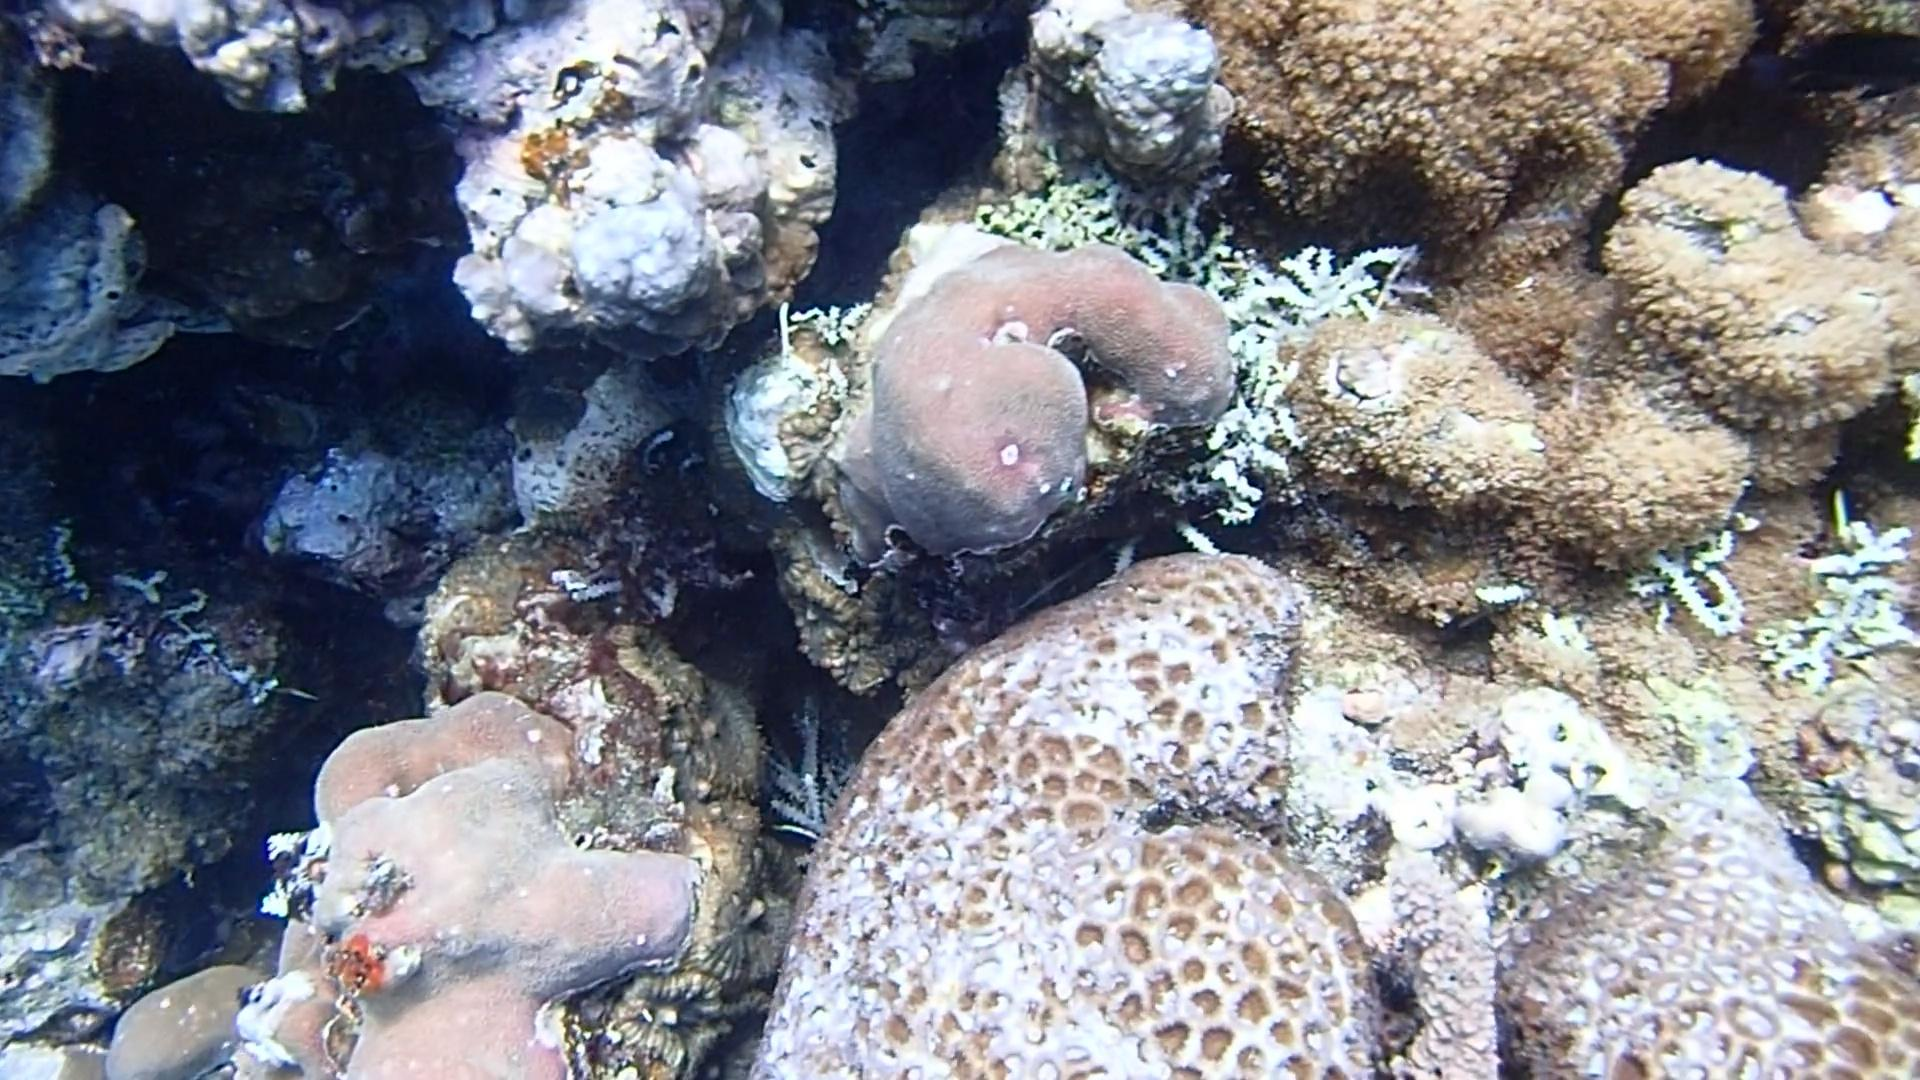Dark Fish: (1738, 16, 1920, 117)
